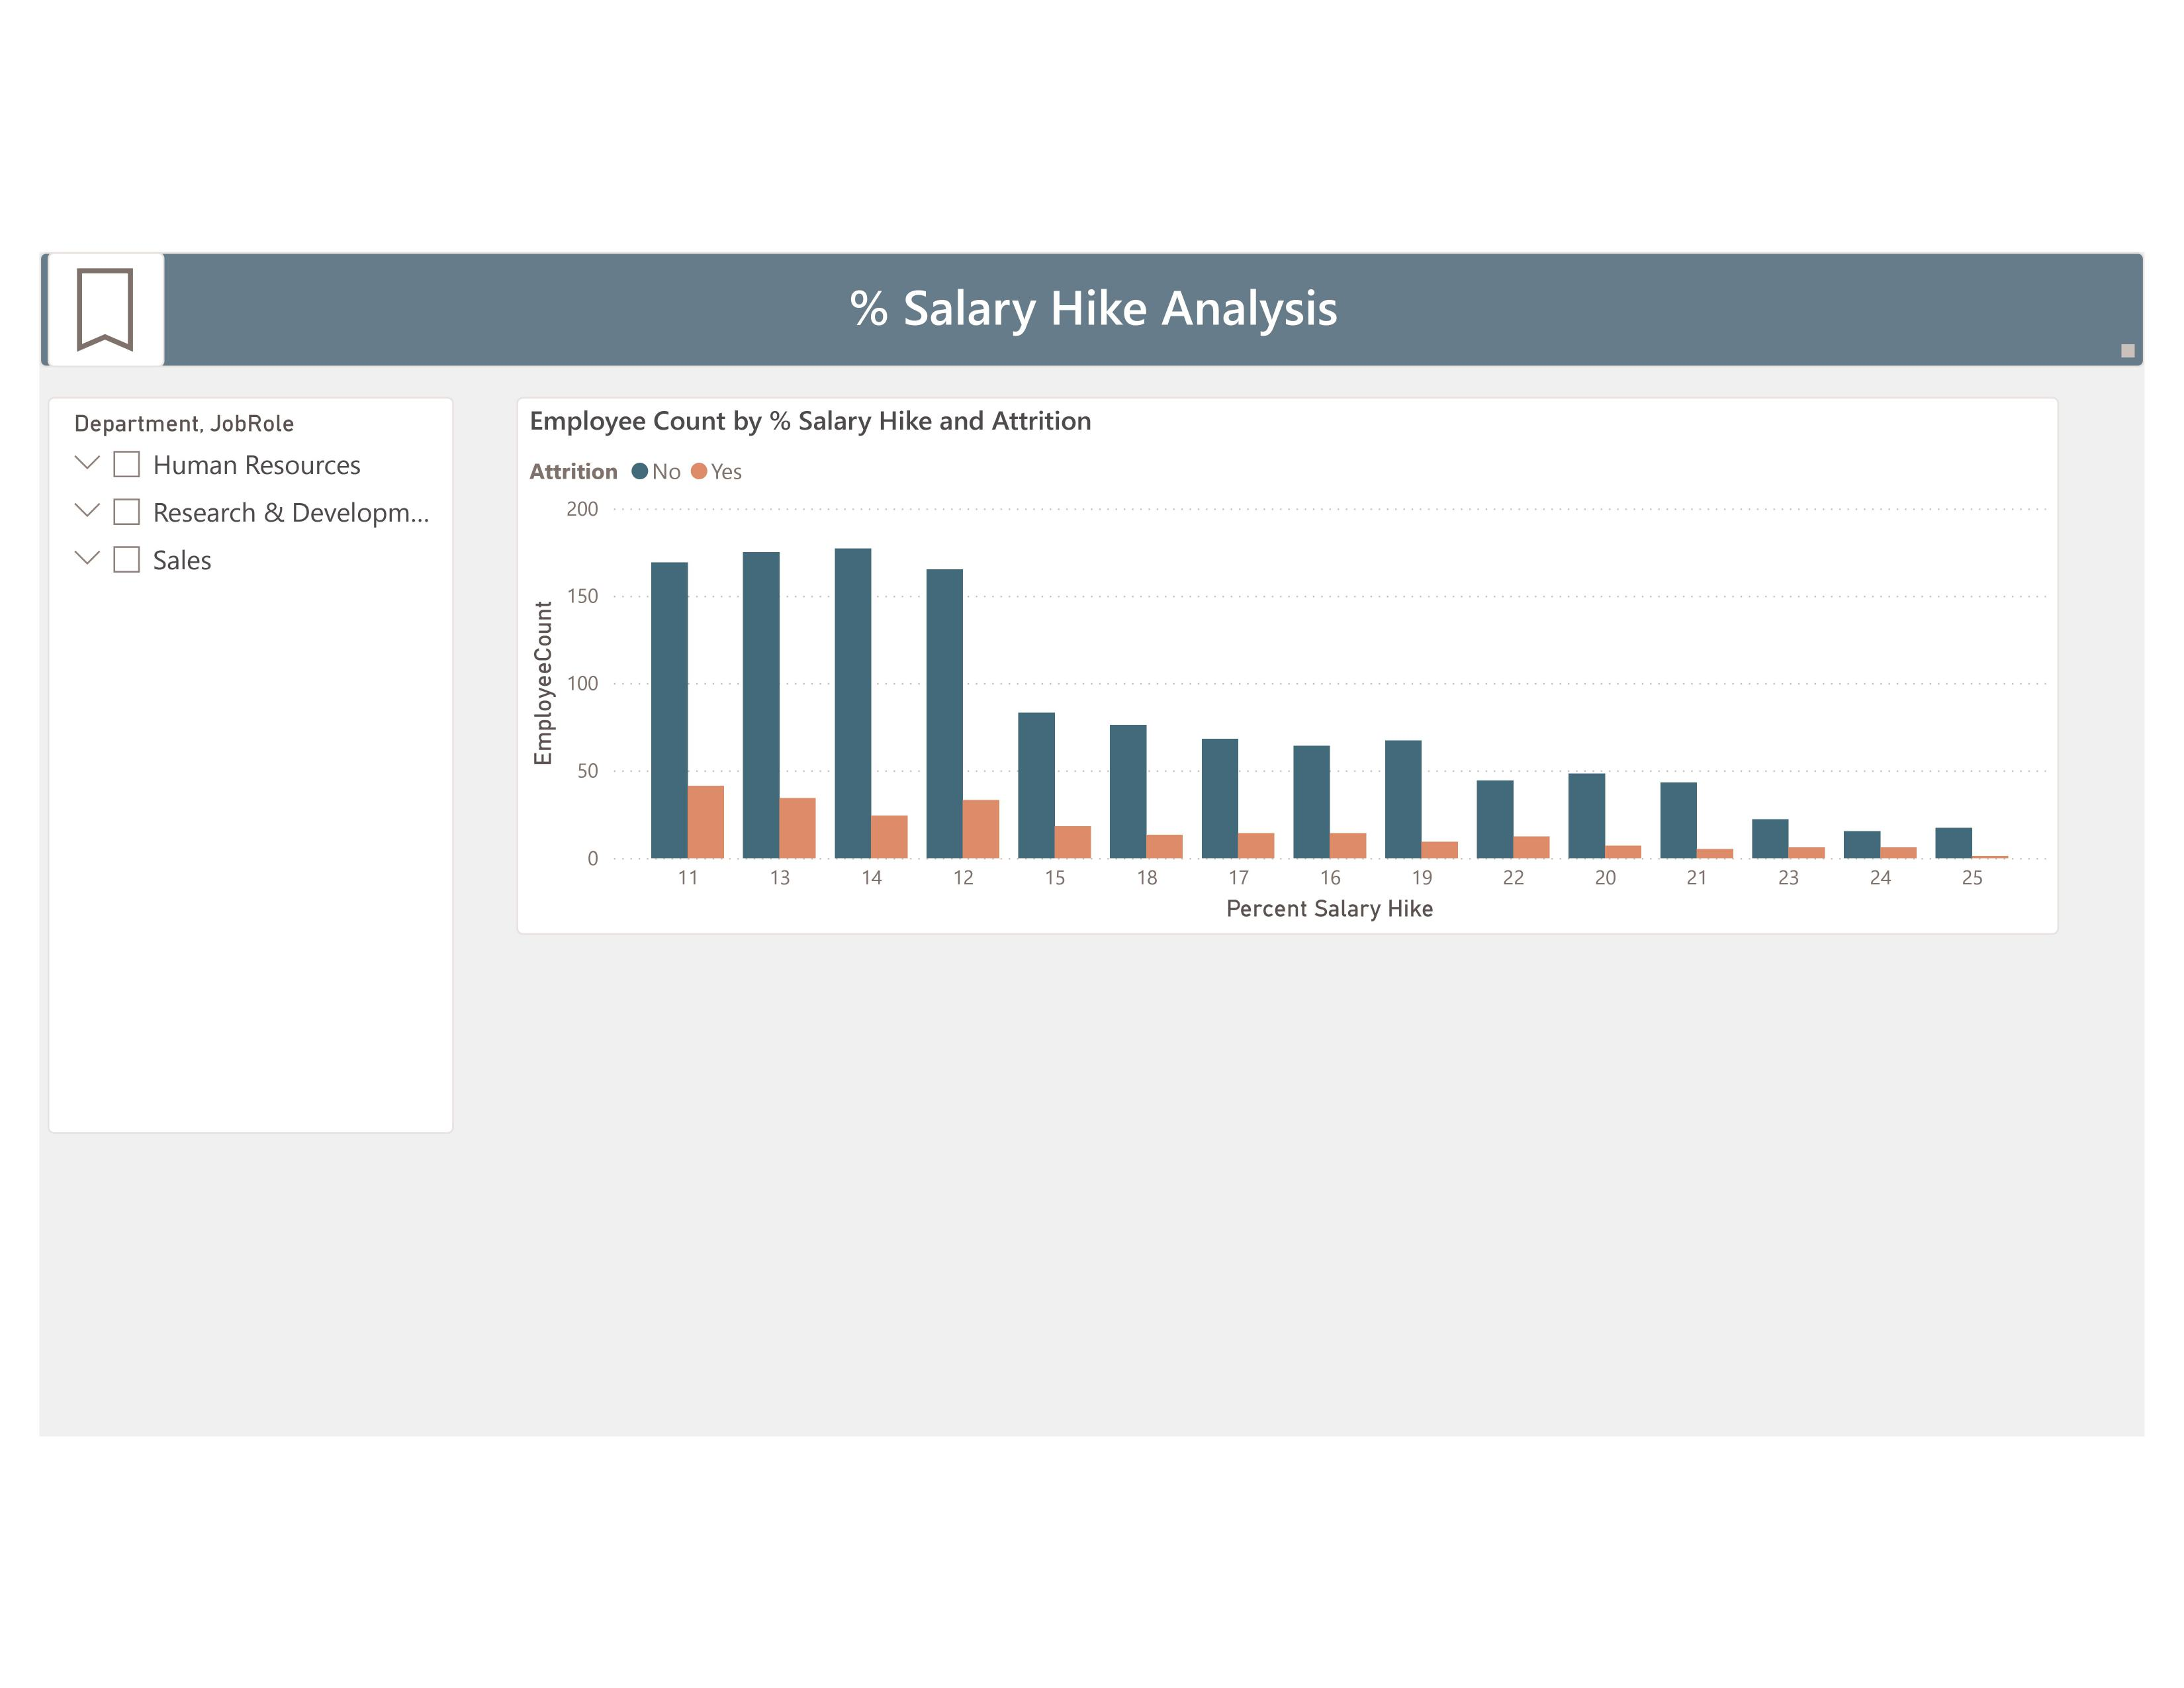

Layout of this report page (visuals, bound fields, positions):
{"tool":"powerbi","page":{"name":"Salary Hike","canvas":[1280,720],"ordinal":8},"visuals":[{"type":"textbox","title":" % Salary Hike Analysis","box":[0,0,1279.8,70],"z":0},{"type":"slicer","fields":{"Values":["Survey Input.Department","Survey Input.JobRole"]},"box":[4.7,88.4,247.7,447.7],"z":1000},{"type":"clusteredColumnChart","title":"Employee Count by % Salary Hike and Attrition","fields":{"Category":["Survey Input.PercentSalaryHike"],"Series":["Survey Input.Attrition"],"Y":["Sum(Survey Input.EmployeeCount)"]},"box":[289.6,88.3,938.7,326.4],"z":2000},{"type":"actionButton","box":[4.9,0,71.2,69.9],"z":3000}]}

Visuals, with their boxes on the page's 1280x720 design canvas (x1, y1, x2, y2). These are canvas units, not pixel positions in the 2184x1688 screenshot, which may show the page scaled, cropped or inside an application window:
" % Salary Hike Analysis" textbox: {"left": 0, "top": 0, "right": 1280, "bottom": 70}
slicer - Survey Input.Department x Survey Input.JobRole: {"left": 5, "top": 88, "right": 252, "bottom": 536}
"Employee Count by % Salary Hike and Attrition" clusteredColumnChart: {"left": 290, "top": 88, "right": 1228, "bottom": 415}
actionButton: {"left": 5, "top": 0, "right": 76, "bottom": 70}
